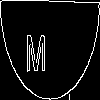M: (25, 24, 47, 72)
